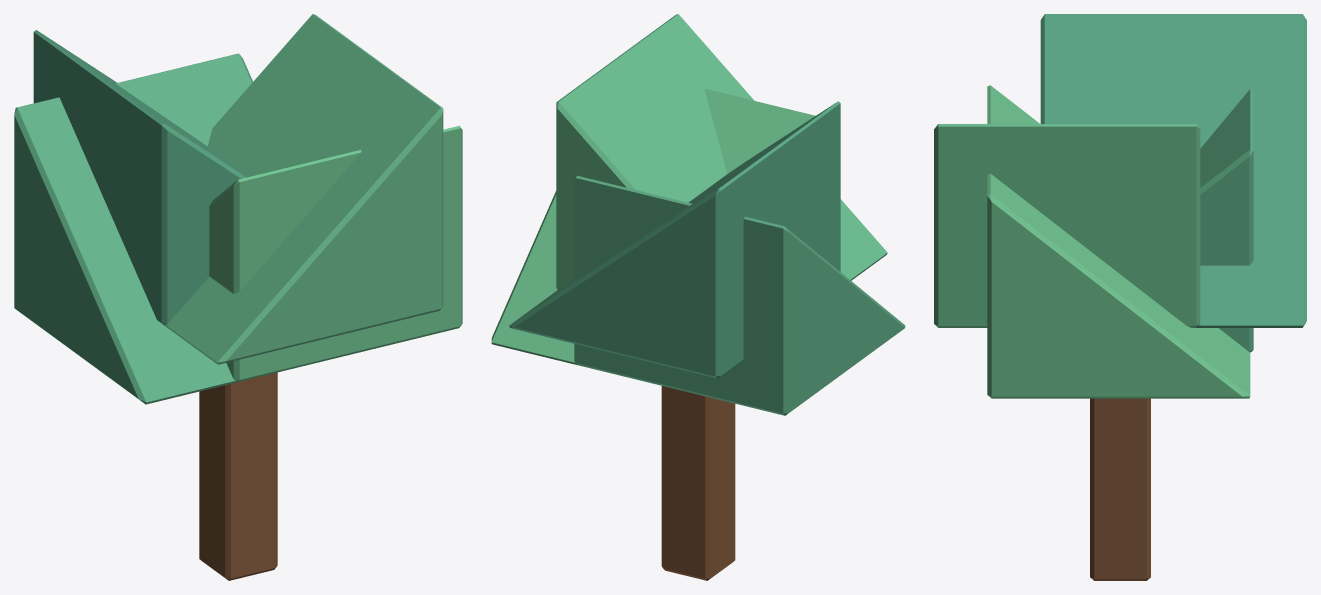
File: quarry_tree.fbx
3 renders of one model, left to right at view 1: azimuth 30°, elevation 25°; view 2: azimuth 150°, elevation 25°; view 3: azimuth 270°, elevation 25°, orthographic. The views are drawn at different scales.
Visible parts, largest first — view 1: LeafFacet.001, LeafFacet.002, LeafFacet.003, LeafFacet, Trunk; view 2: LeafFacet.003, LeafFacet.002, LeafFacet.001, Trunk, LeafFacet; view 3: LeafFacet.003, LeafFacet.001, LeafFacet, Trunk, LeafFacet.002.
Boxes of the visible parts, x1,y1,x2,y2 form: LeafFacet.001: [165, 14, 443, 364]; LeafFacet.002: [14, 53, 252, 404]; LeafFacet.003: [33, 30, 248, 325]; LeafFacet: [209, 125, 462, 382]; Trunk: [199, 372, 277, 580]; LeafFacet.003: [509, 101, 840, 378]; LeafFacet.002: [574, 175, 905, 415]; LeafFacet.001: [556, 14, 887, 289]; Trunk: [661, 386, 735, 580]; LeafFacet: [491, 89, 815, 364]; LeafFacet.003: [1040, 14, 1306, 327]; LeafFacet.001: [934, 124, 1200, 327]; LeafFacet: [987, 85, 1250, 398]; Trunk: [1090, 398, 1150, 580]; LeafFacet.002: [1200, 88, 1253, 352].
Bounding box in the file's own units: 490 × 726 × 490.
